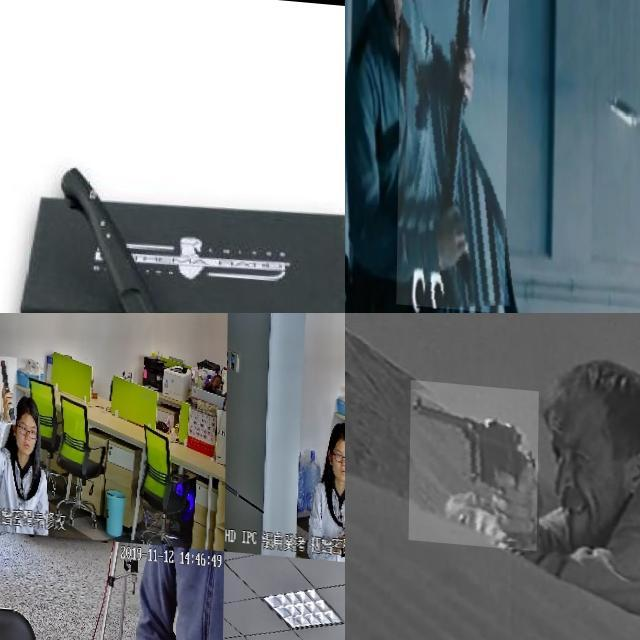gun-knife-thesis - v11 Yolov5 augmented: (397, 0, 509, 308), (410, 375, 540, 544), (0, 354, 17, 423), (337, 509, 345, 554)
